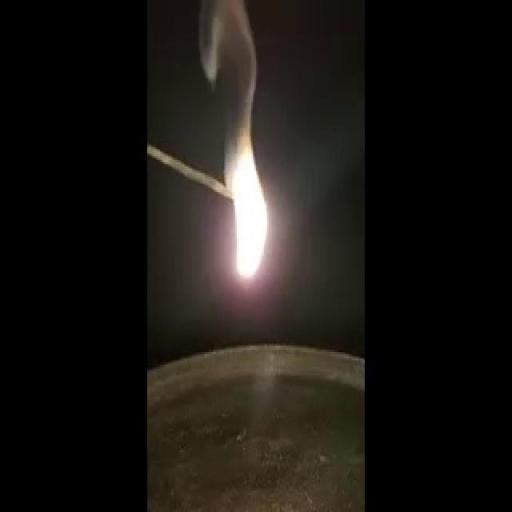smoke: (217, 90, 282, 303)
